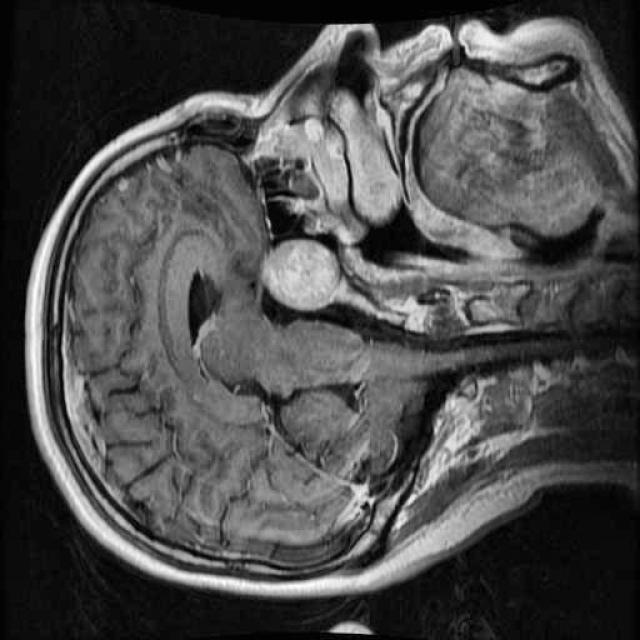Tumor: (246, 229, 358, 320)
